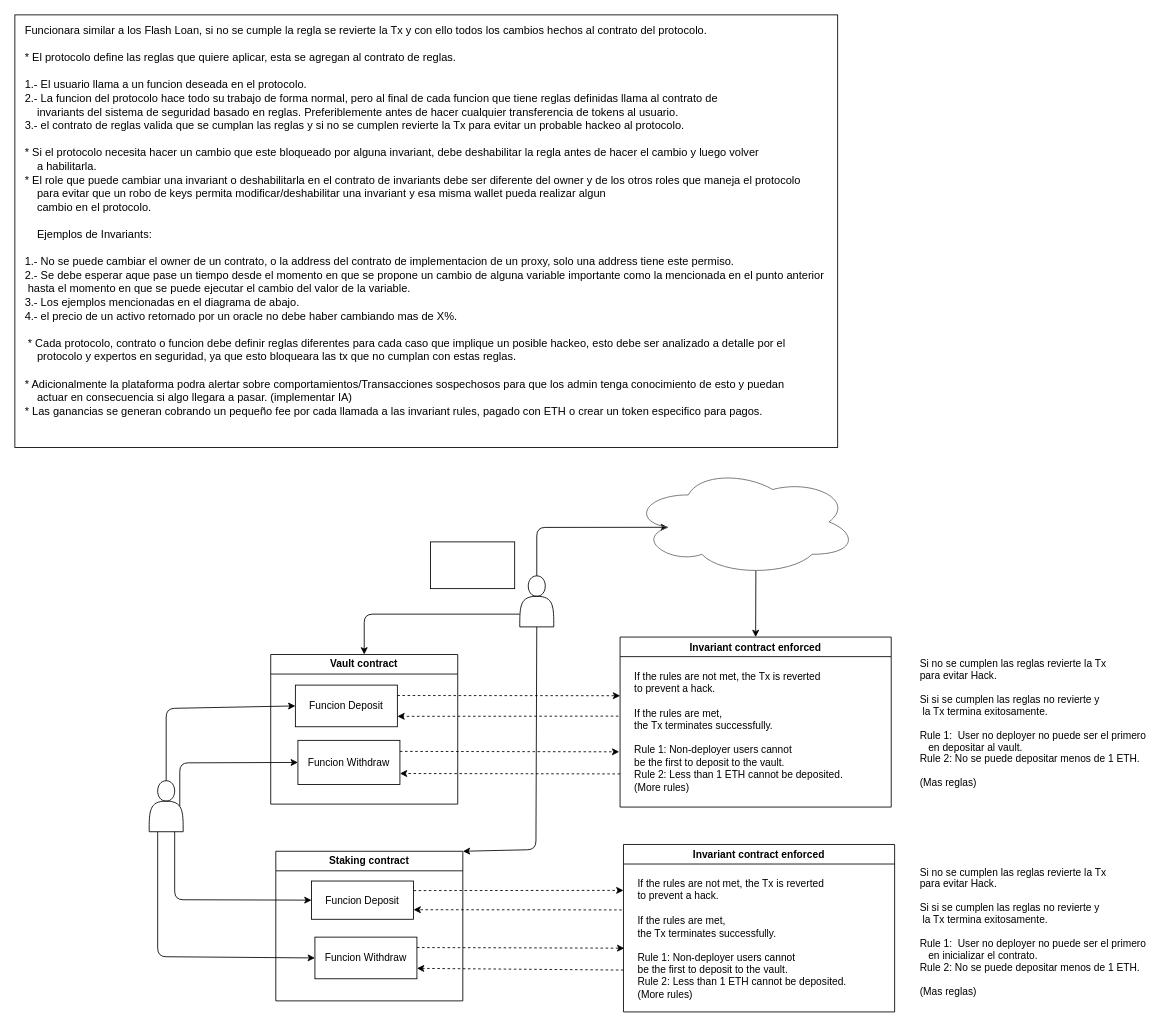
Some shapes in this 1175 by 1027 pixel diagram are drawn without their labels. The shapes that lost their labels are listed below. From the top down, each one's centre as x and y in pixels, then its label:
At (744,521): "ZamnaSec Platform Factory: * Create Invariants * Config / Modify Invariants".
At (472,565): "Protocol + Security Expert".
At (165,806): "Users".
